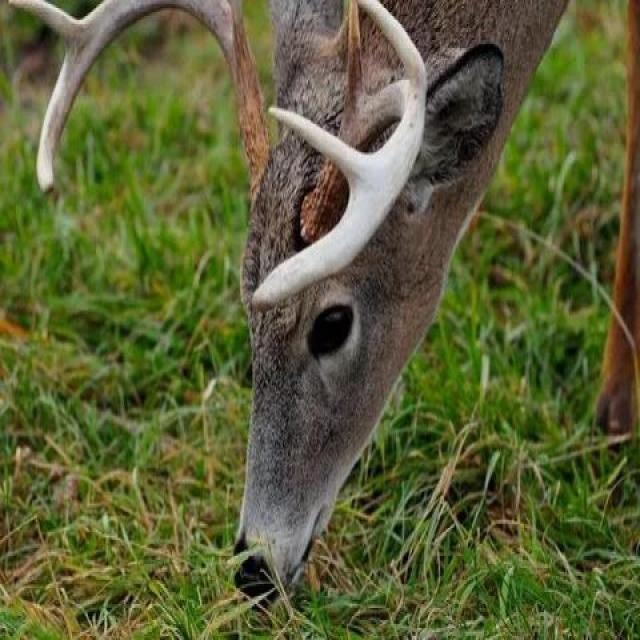deer: (27, 0, 640, 567)
